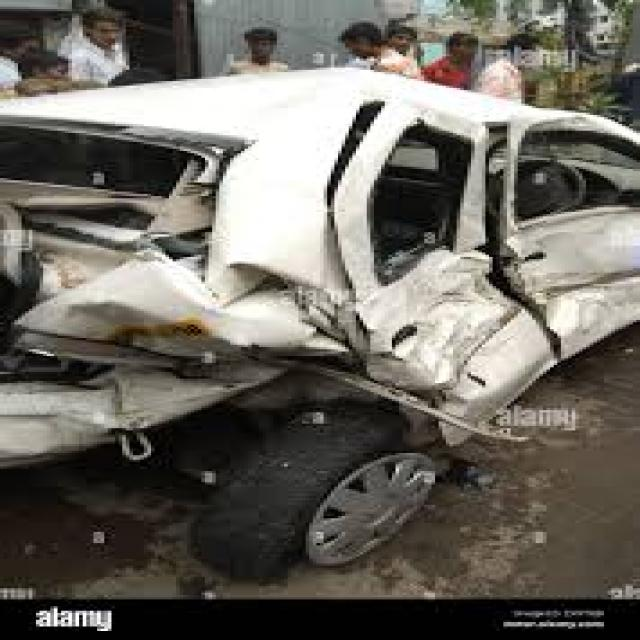severe: (0, 90, 622, 500)
